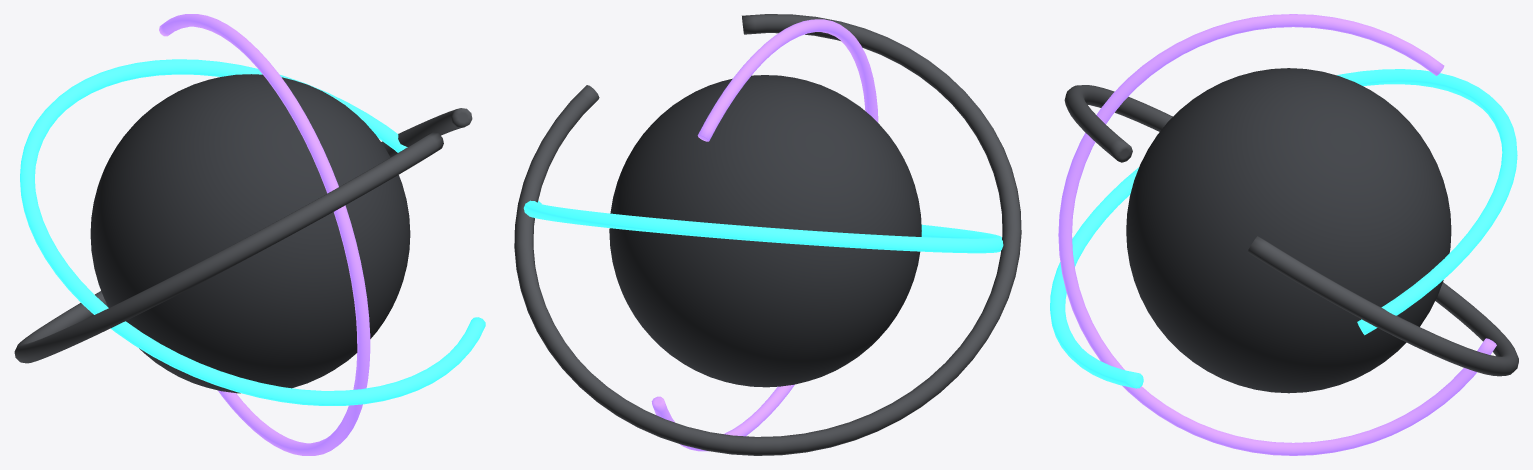
Rendered from ai-core.glb.
The picture shows the model from 3 angles, left to right: view 1: azimuth 30°, elevation 25°; view 2: azimuth 150°, elevation 25°; view 3: azimuth 270°, elevation 25°; orthographic projection. The views are drawn at different scales.
Parts seen in each view (by area): view 1: AI_Core; view 2: AI_Core; view 3: AI_Core.
Part boxes in pixels (x1,y1,x2,y2): AI_Core: (14, 14, 485, 455); AI_Core: (514, 14, 1021, 455); AI_Core: (1050, 14, 1518, 455).
Bounding box in the file's own units: 2 × 1.83 × 1.83.
